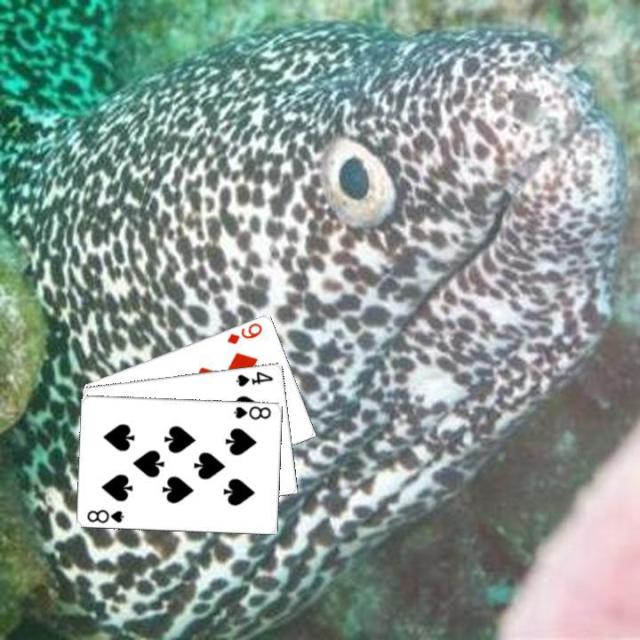4S: (233, 367, 275, 389)
8S: (230, 402, 273, 421), (84, 506, 126, 524)
9D: (223, 319, 264, 346)
